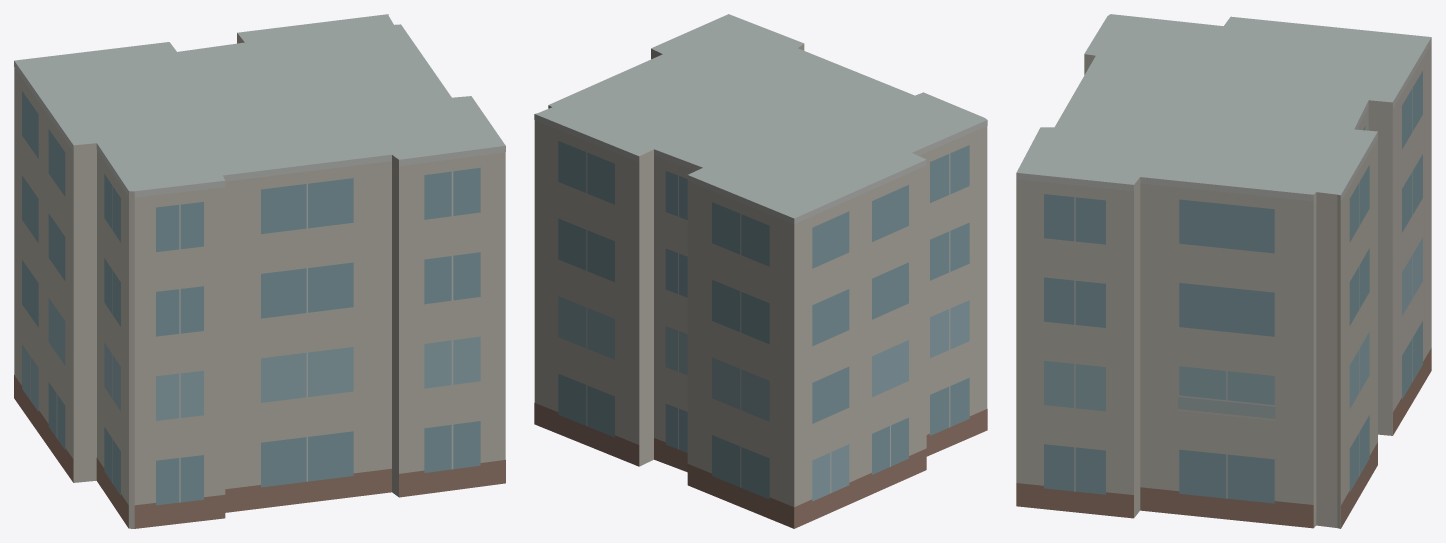
The model's file is survey-upis-32625558.glb.
3 renders of one model, left to right at view 1: azimuth 30°, elevation 25°; view 2: azimuth 150°, elevation 25°; view 3: azimuth 270°, elevation 25°, orthographic. The views are drawn at different scales.
Parts seen in each view (by area): view 1: survey-upis-32625558.tmp; view 2: survey-upis-32625558.tmp; view 3: survey-upis-32625558.tmp.
Boxes of the visible parts, x1,y1,x2,y2 form: survey-upis-32625558.tmp: (14,14,505,528); survey-upis-32625558.tmp: (534,14,987,528); survey-upis-32625558.tmp: (1016,14,1431,528).
Size of the model in its own units: 14.94 by 12.8 by 14.45.
